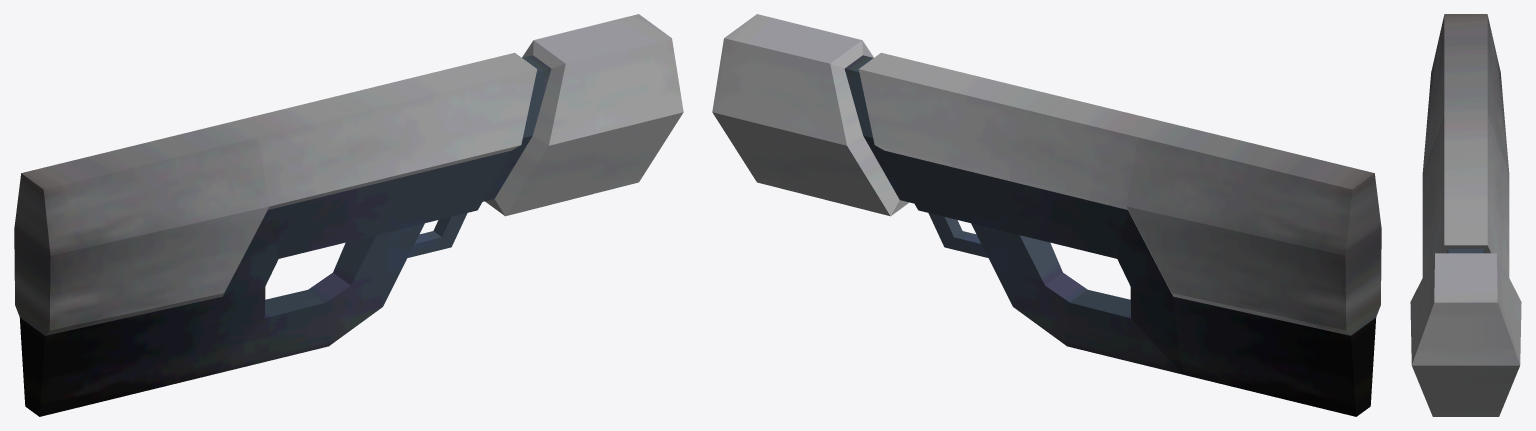
File: gunMain.fbx
3 renders of one model, left to right at view 1: azimuth 30°, elevation 25°; view 2: azimuth 150°, elevation 25°; view 3: azimuth 270°, elevation 25°, orthographic. The views are drawn at different scales.
Visible parts, largest first — view 1: gun_main; view 2: gun_main; view 3: gun_main.
Boxes of the visible parts, x1=… form: gun_main: x1=14, y1=14, x2=683, y2=416; gun_main: x1=712, y1=14, x2=1381, y2=416; gun_main: x1=1410, y1=14, x2=1521, y2=416.
Size of the model in its own units: 3.36 by 1.2 by 0.5399.
